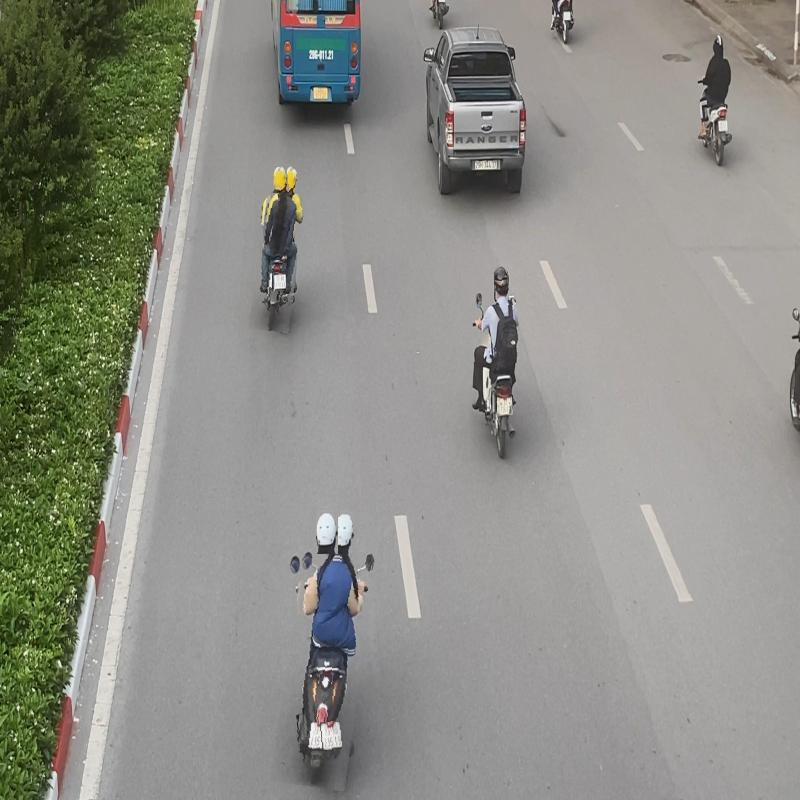helmet: (316, 510, 338, 554), (493, 264, 508, 294), (272, 166, 288, 194)
licenseplate: (320, 722, 342, 750), (498, 395, 513, 416), (272, 273, 286, 291)
motorcyclist: (280, 508, 373, 789), (472, 264, 522, 460), (254, 163, 306, 333)
